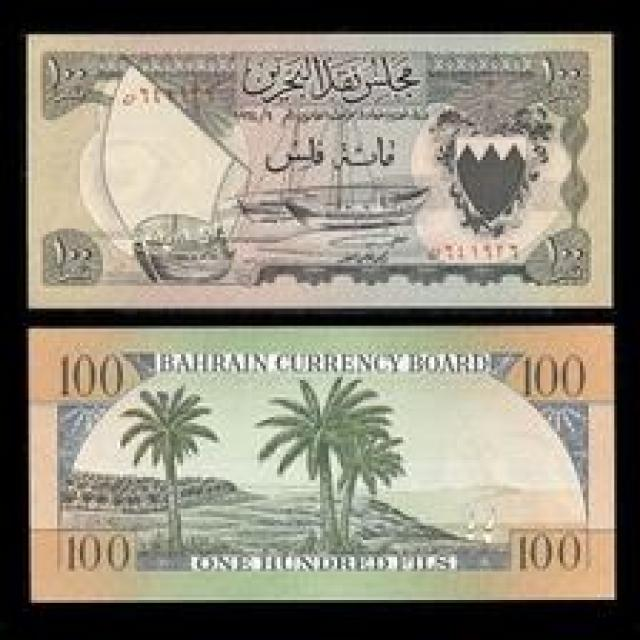banknote: (26, 320, 614, 603), (23, 29, 614, 308)
